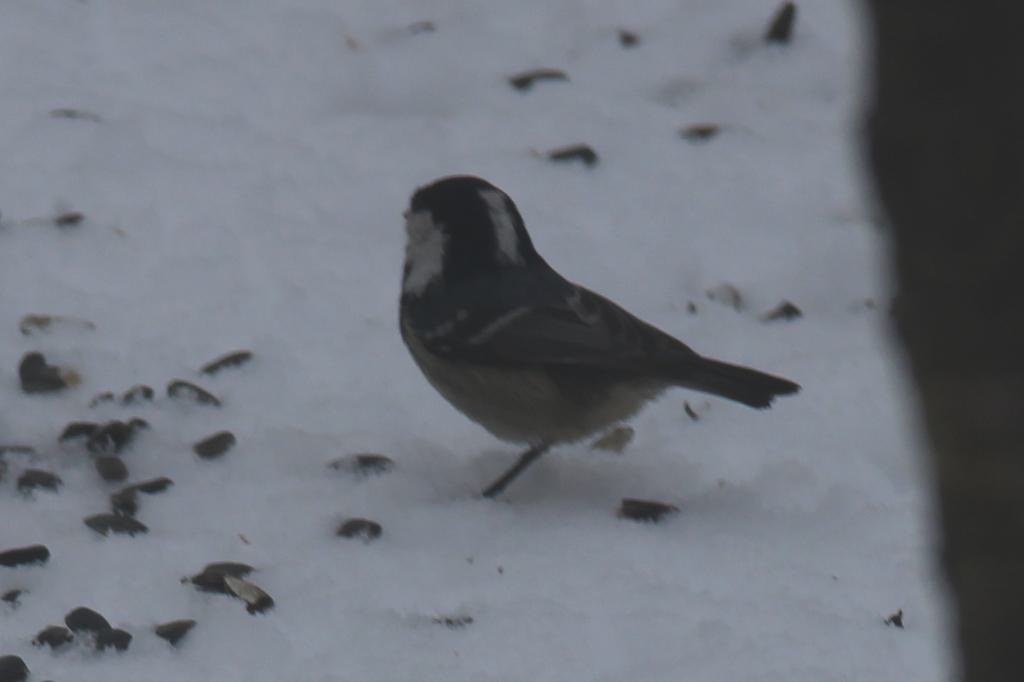PeriparusAter: (397, 173, 804, 499)
